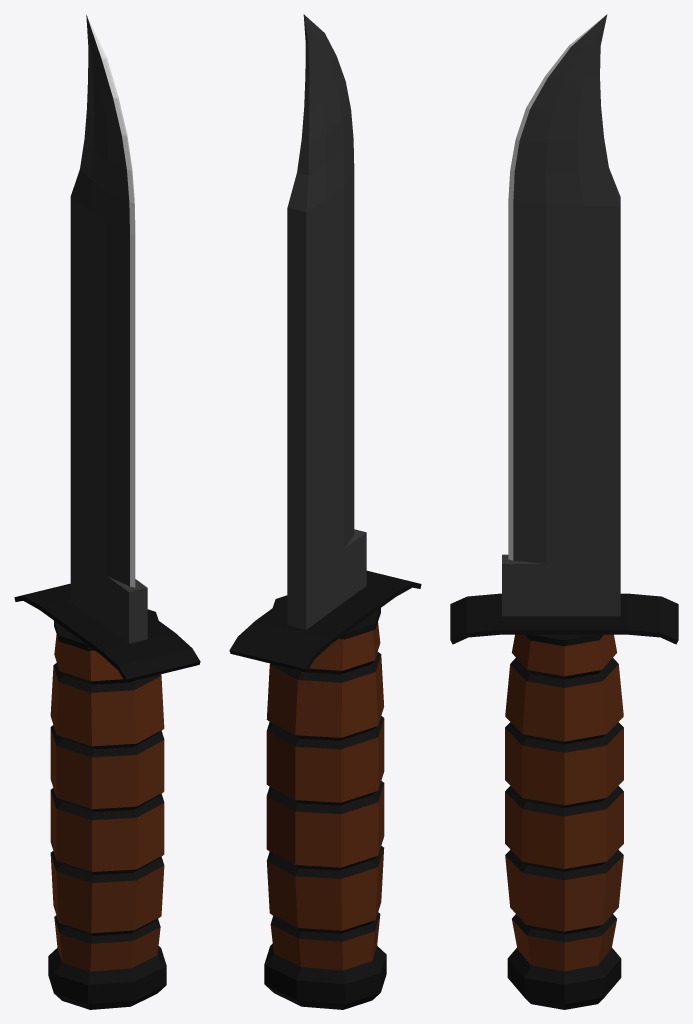
File: KABAR.glb
3 views of the same model, side by side, from view 1: azimuth 30°, elevation 25°; view 2: azimuth 150°, elevation 25°; view 3: azimuth 270°, elevation 25° (orthographic). The views are drawn at different scales.
Parts seen in each view (by area): view 1: KABAR; view 2: KABAR; view 3: KABAR.
Boxes of the visible parts, bbox=[...] form: KABAR: bbox=[14, 14, 200, 1009]; KABAR: bbox=[229, 14, 421, 1009]; KABAR: bbox=[450, 14, 678, 1009].
Size of the model in its own units: 0.0413 by 0.3529 by 0.0749.
Materials: 1 (1 with a texture image).
